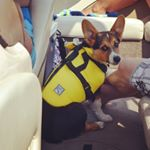puppy: (77, 13, 131, 73)
